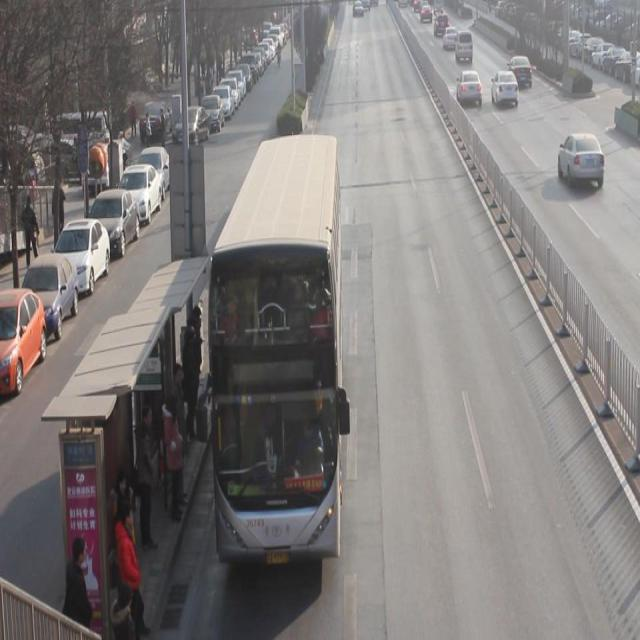car: (557, 127, 606, 188), (490, 64, 520, 104), (456, 65, 484, 106), (507, 47, 533, 83), (442, 20, 459, 44)
truck: (454, 26, 474, 58)
van: (205, 131, 338, 552)
